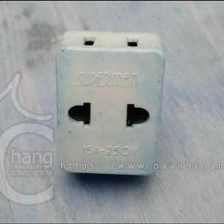three_eye_plug: (50, 24, 164, 178)
